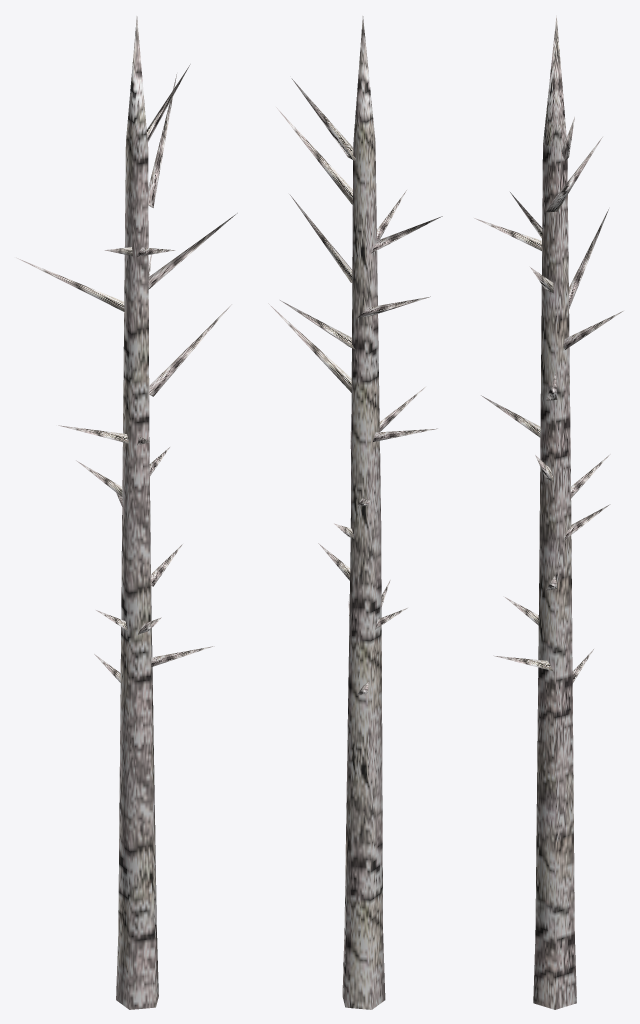
Rendered from Tree06.glb.
3 views of the same model, side by side, from view 1: azimuth 30°, elevation 25°; view 2: azimuth 150°, elevation 25°; view 3: azimuth 270°, elevation 25° (orthographic).
Parts seen in each view (by area): view 1: Tree06; view 2: Tree06; view 3: Tree06.
Boxes of the visible parts, box(x1,y1,x2,y2) form: Tree06: box(16, 16, 237, 1009); Tree06: box(268, 16, 442, 1009); Tree06: box(474, 15, 623, 1009).
Size of the model in its own units: 1.65 by 8.09 by 1.14.
Materials: 1 (1 with a texture image).
